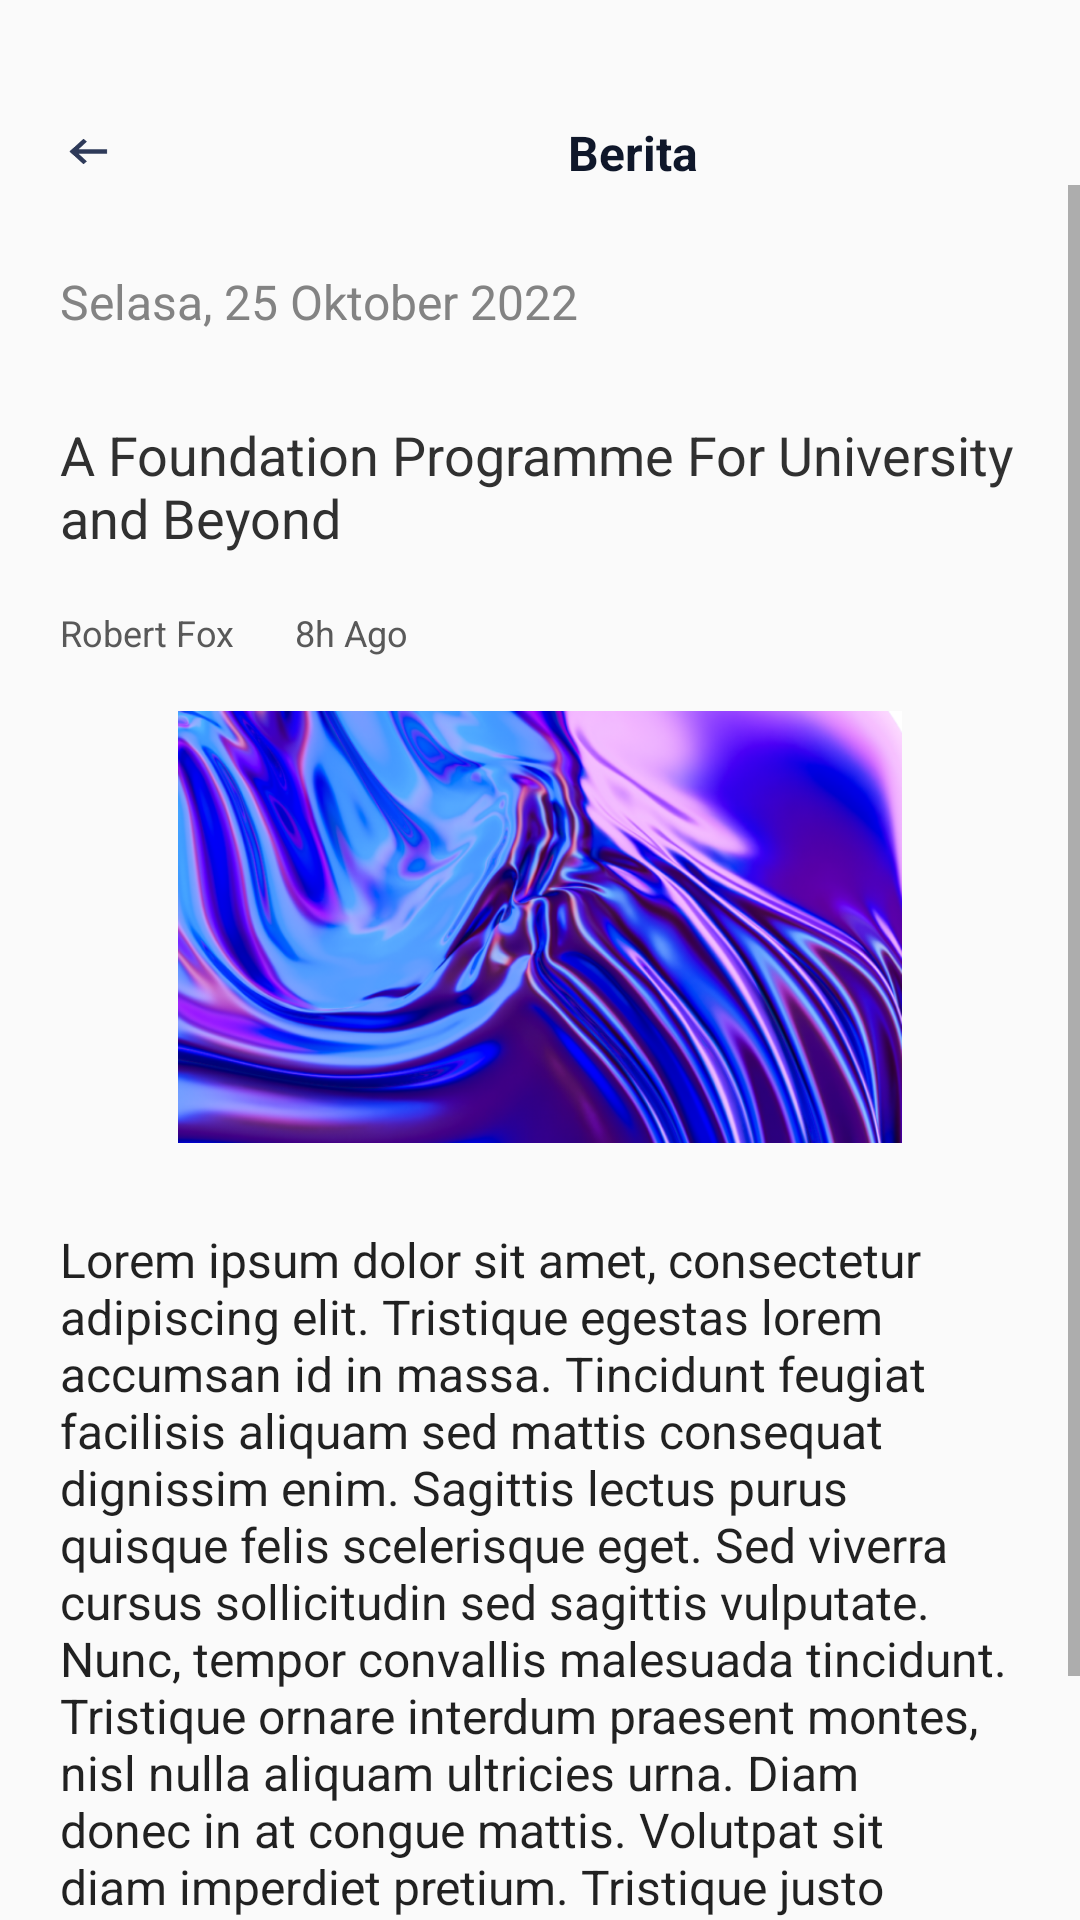

Where to tap for icons on this 1080px×1920px app screen, as (x,y):
arrow: (88,151)
